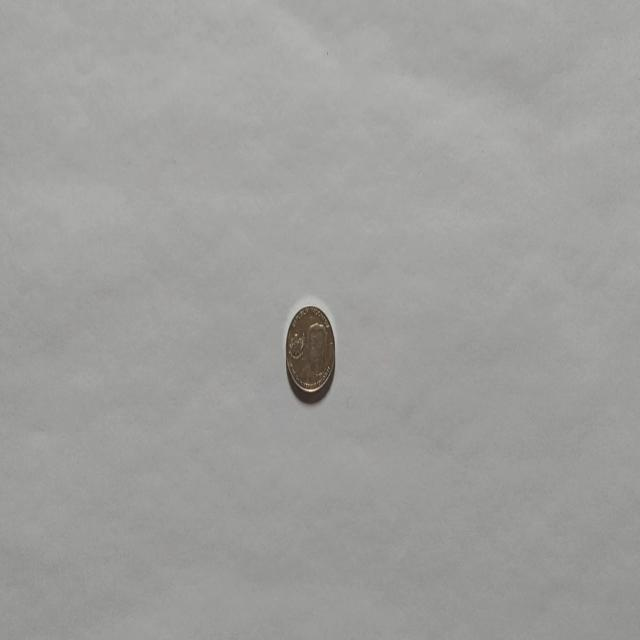seratus rupiah: (284, 303, 336, 397)
